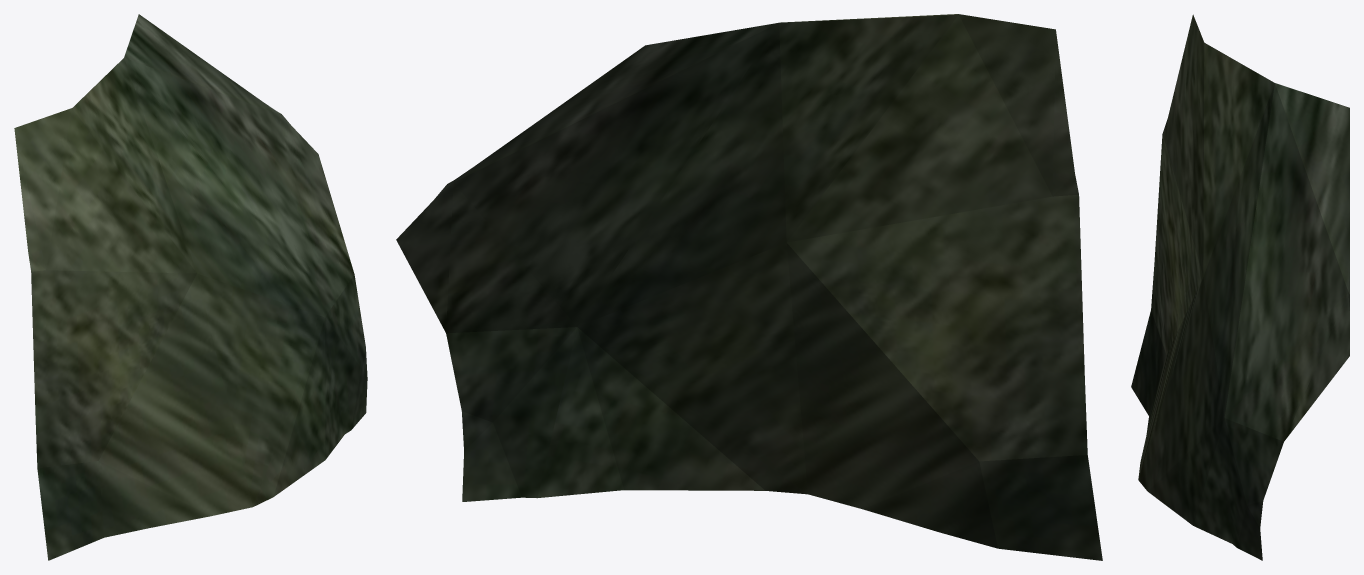
The picture shows the model from 3 angles, left to right: view 1: azimuth 30°, elevation 25°; view 2: azimuth 150°, elevation 25°; view 3: azimuth 270°, elevation 25°; orthographic projection. The views are drawn at different scales.
Bounding box in the file's own units: 2.95 × 2.95 × 1.57.
Materials: 3 (3 with a texture image).
